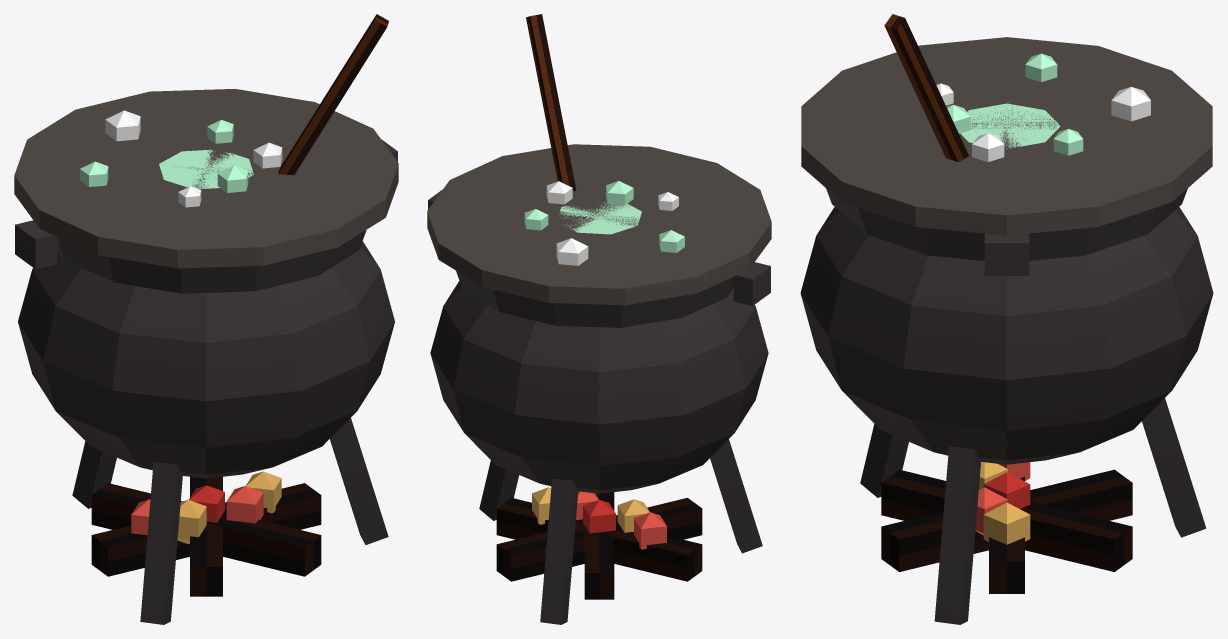
File: cauldron_green.glb
3 views of the same model, side by side, from view 1: azimuth 30°, elevation 25°; view 2: azimuth 150°, elevation 25°; view 3: azimuth 270°, elevation 25° (orthographic). The views are drawn at different scales.
Visible parts, largest first — view 1: cauldron_green; view 2: cauldron_green; view 3: cauldron_green.
Part boxes in pixels (bbox=[...]): cauldron_green: bbox=[14, 14, 398, 624]; cauldron_green: bbox=[427, 14, 771, 624]; cauldron_green: bbox=[800, 14, 1213, 624].
Bounding box in the file's own units: 1.02 × 1.47 × 0.92.
Materials: 3 (1 with a texture image).
